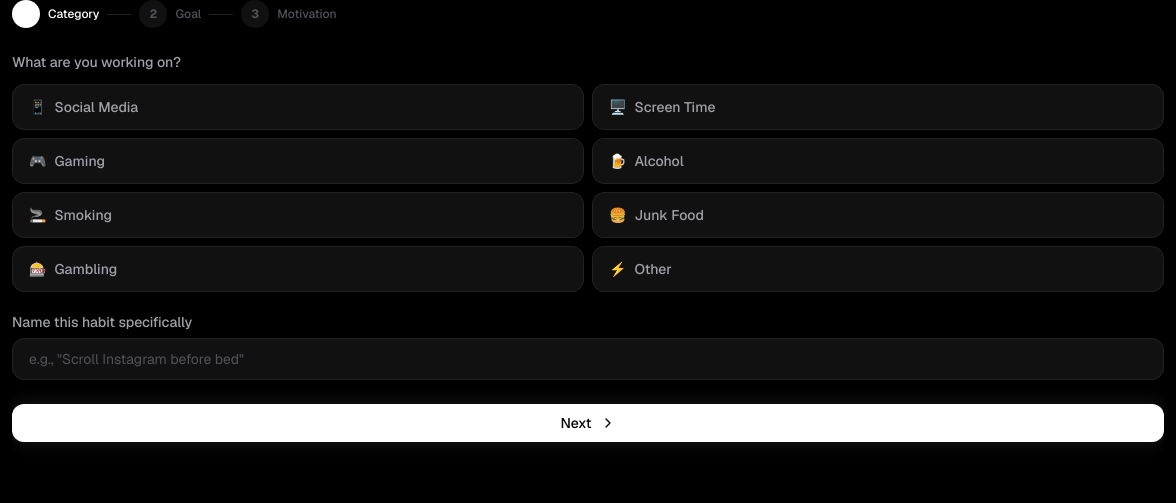
it: HabitForm component › validates step 0 and prevents moving to next step if invalid
Click the button "Next".
click(588, 423)  # box [12,404,1164,442]
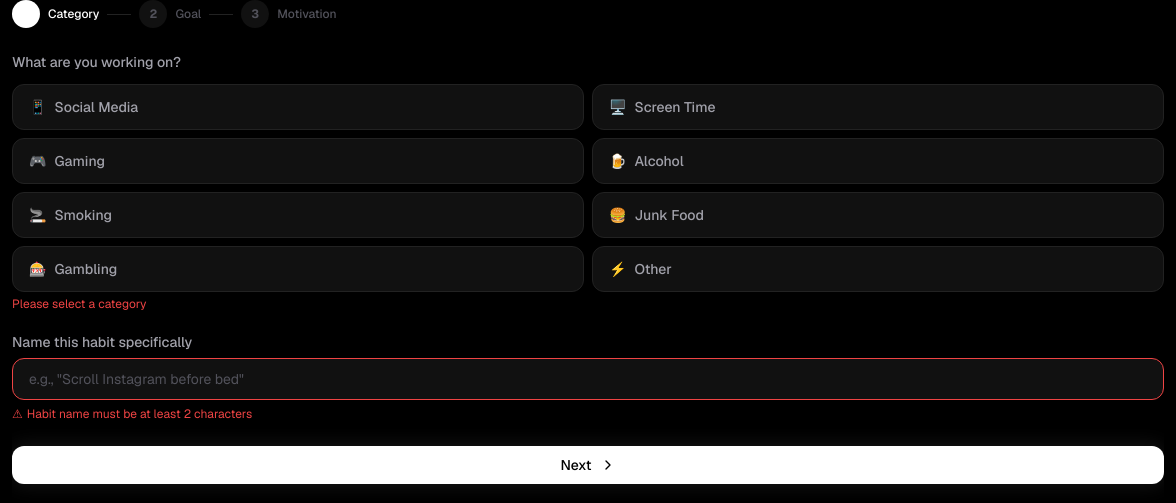
Expected: the text "Please select a category" is shown, [12,296,146,312]
